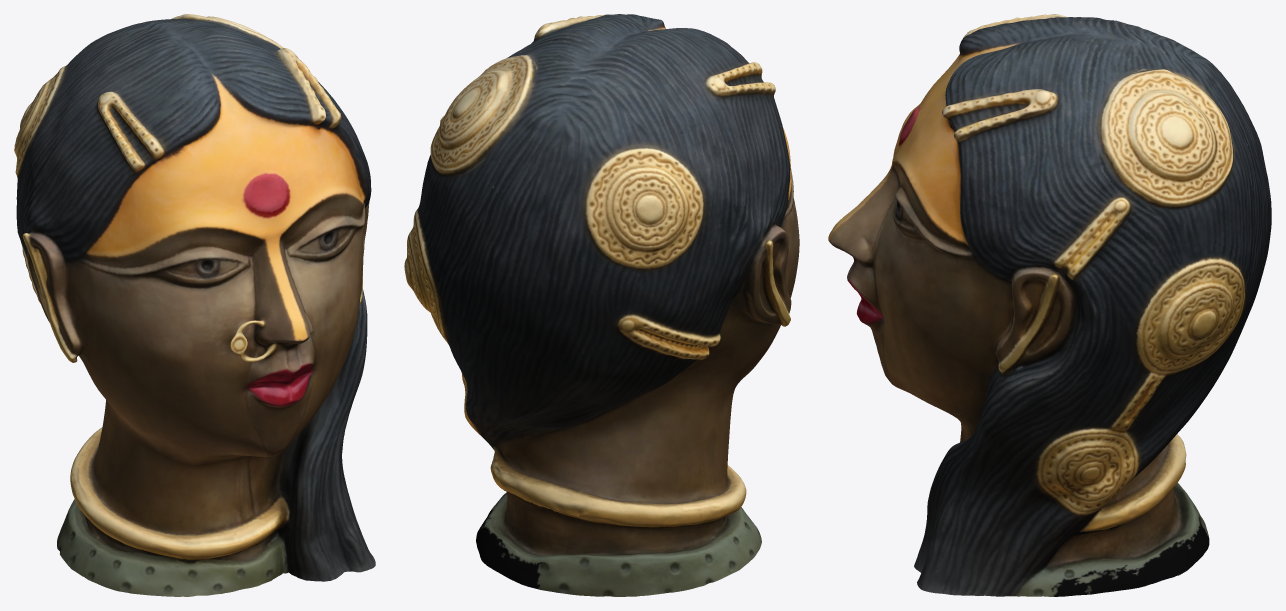
File: thota-untitled-head-with-nose-ring.glb
3 renders of one model, left to right at view 1: azimuth 30°, elevation 25°; view 2: azimuth 150°, elevation 25°; view 3: azimuth 270°, elevation 25°, orthographic.
Parts seen in each view (by area): view 1: Mesh; view 2: Mesh; view 3: Mesh.
Part boxes in pixels (x1,y1,x2,y2): Mesh: (14,14,375,596); Mesh: (404,14,799,596); Mesh: (828,14,1271,596).
Bounding box in the file's own units: 0.3438 × 0.5 × 0.3975.
1 material, 1 textured.
